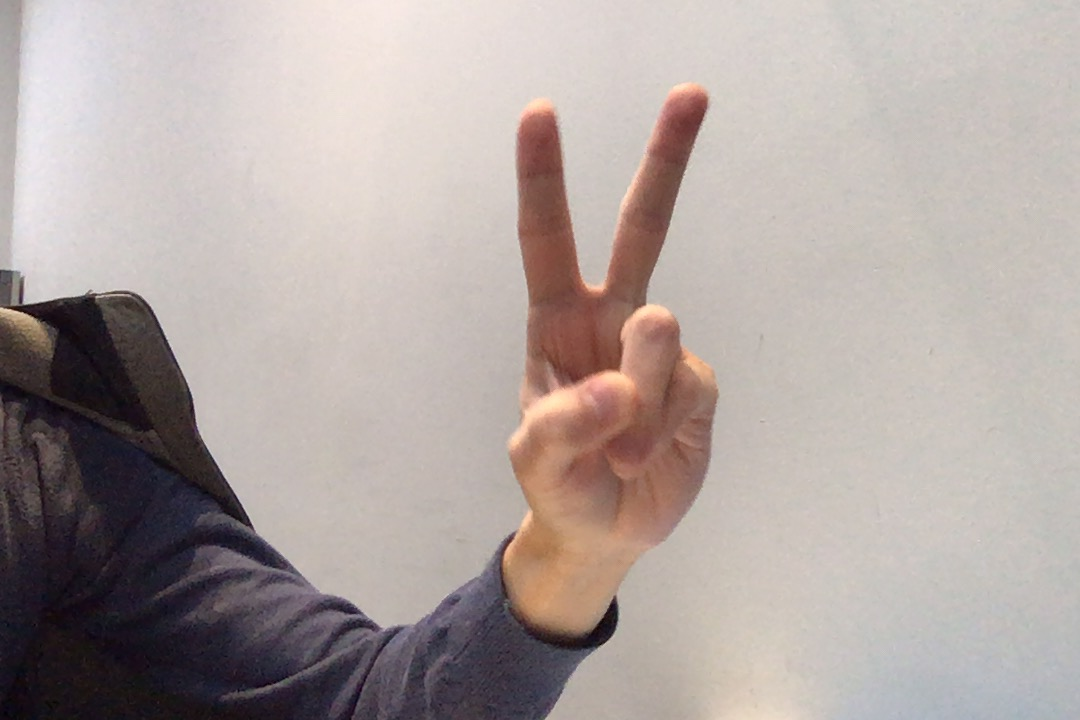peacesign: (490, 76, 741, 565)
